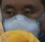with_mask: (2, 1, 45, 42)
